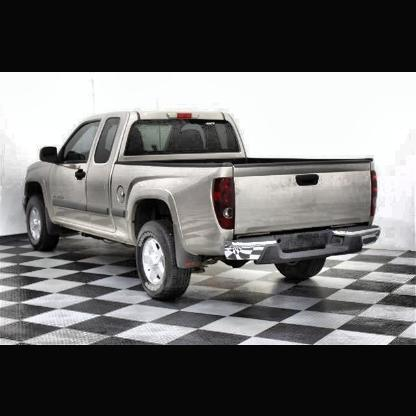GMC Canyon Extended Cab 2012: (25, 111, 382, 302)
